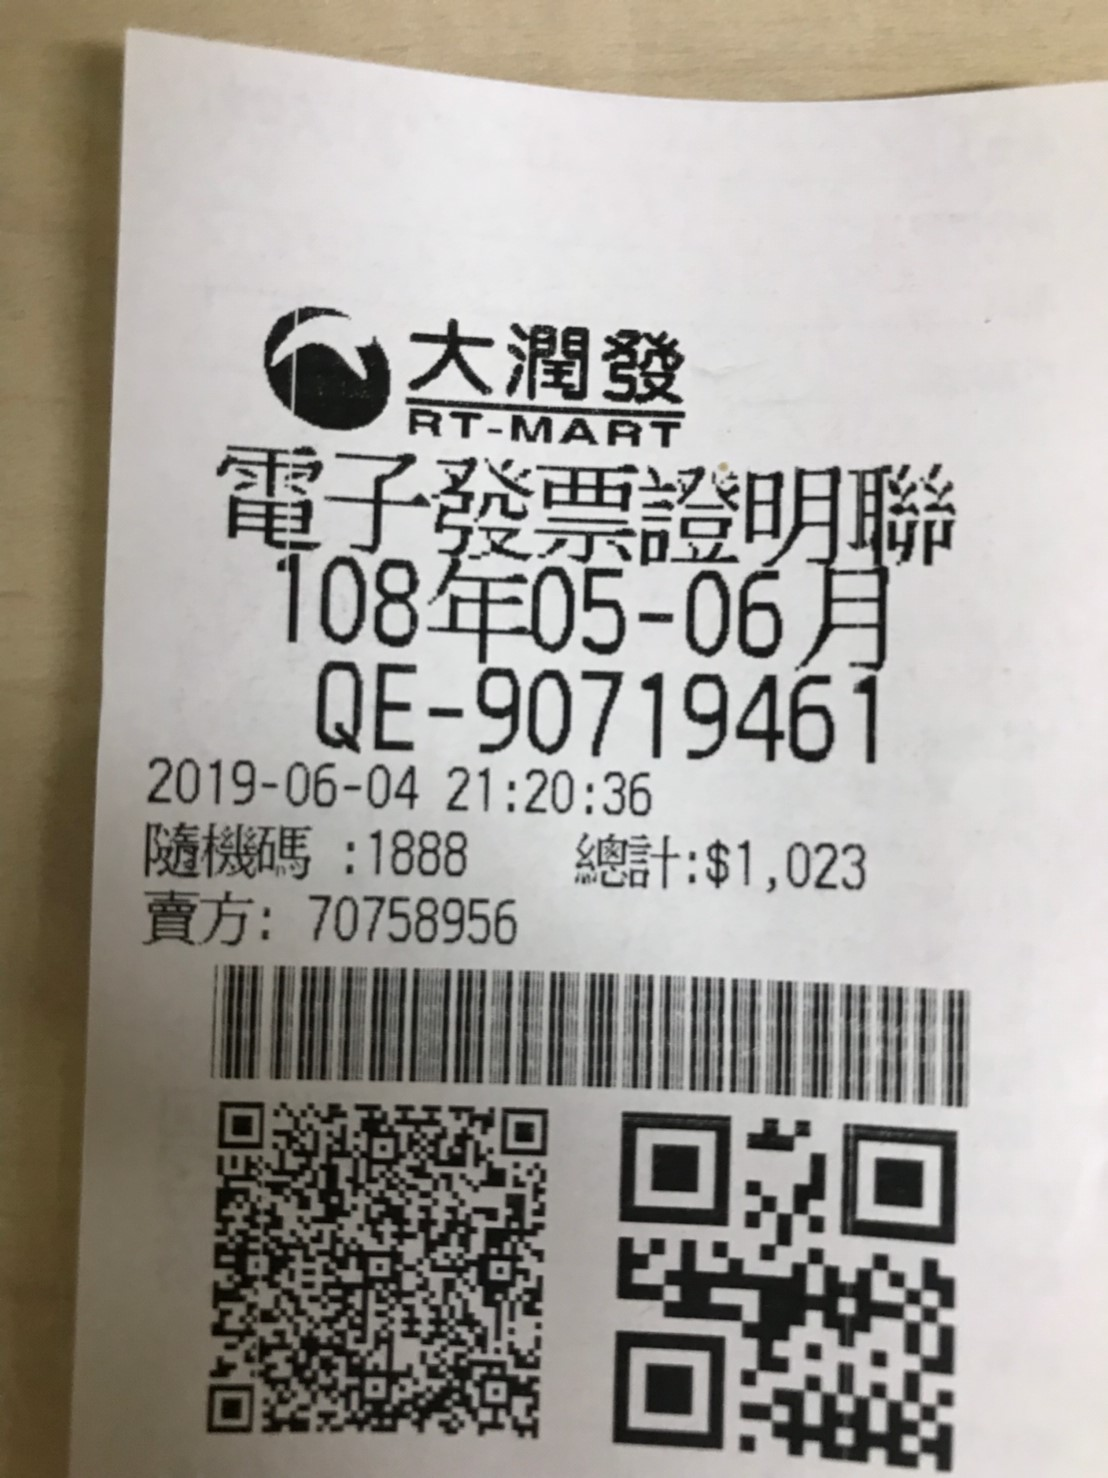Date_New: (276, 550, 893, 672)
Number_New: (474, 660, 887, 770)
